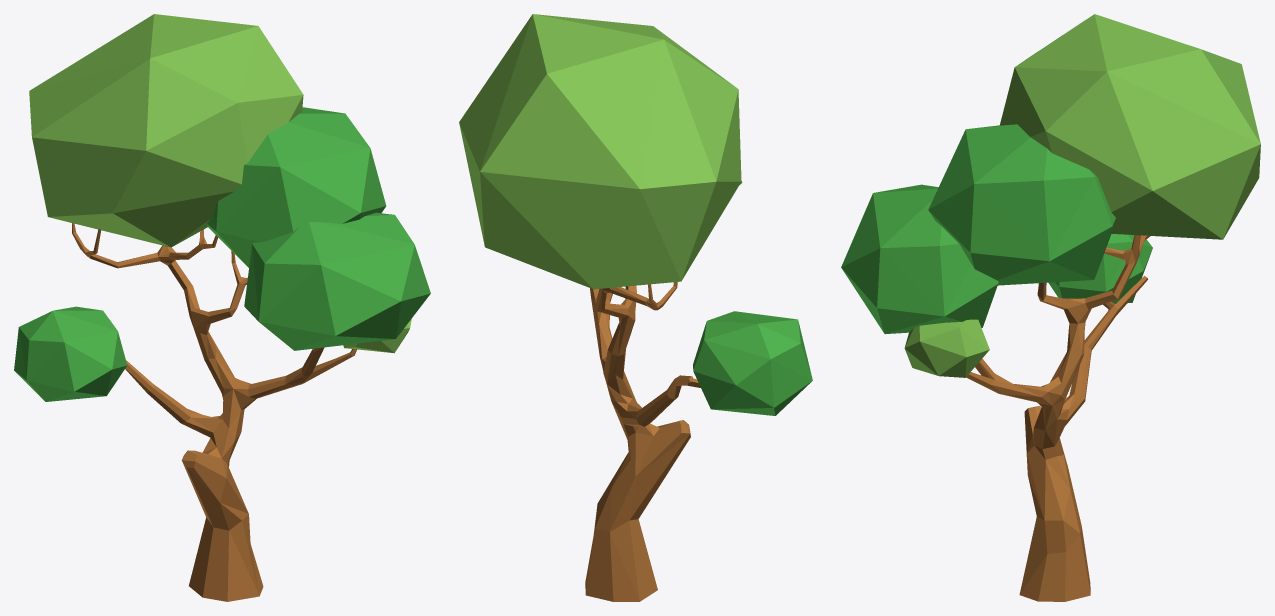
Rendered from tree_15.glb.
The picture shows the model from 3 angles, left to right: view 1: azimuth 30°, elevation 25°; view 2: azimuth 150°, elevation 25°; view 3: azimuth 270°, elevation 25°; orthographic projection. The views are drawn at different scales.
Parts seen in each view (by area): view 1: Lowpoly_Tree_15_Material.001_0, Lowpoly_Tree_15_Material.002_0, Lowpoly_Tree_15_Material_0; view 2: Lowpoly_Tree_15_Material.001_0, Lowpoly_Tree_15_Material_0, Lowpoly_Tree_15_Material.002_0; view 3: Lowpoly_Tree_15_Material.001_0, Lowpoly_Tree_15_Material.002_0, Lowpoly_Tree_15_Material_0.
Part boxes in pixels (x1,y1,x2,y2): Lowpoly_Tree_15_Material.001_0: (29, 14, 411, 353); Lowpoly_Tree_15_Material.002_0: (14, 107, 430, 401); Lowpoly_Tree_15_Material_0: (72, 223, 356, 601); Lowpoly_Tree_15_Material.001_0: (459, 14, 741, 289); Lowpoly_Tree_15_Material_0: (585, 282, 700, 601); Lowpoly_Tree_15_Material.002_0: (693, 180, 812, 415); Lowpoly_Tree_15_Material.001_0: (904, 14, 1260, 377); Lowpoly_Tree_15_Material.002_0: (841, 124, 1152, 333); Lowpoly_Tree_15_Material_0: (966, 235, 1150, 601).
Size of the model in its own units: 1.21 by 1.92 by 1.34.
